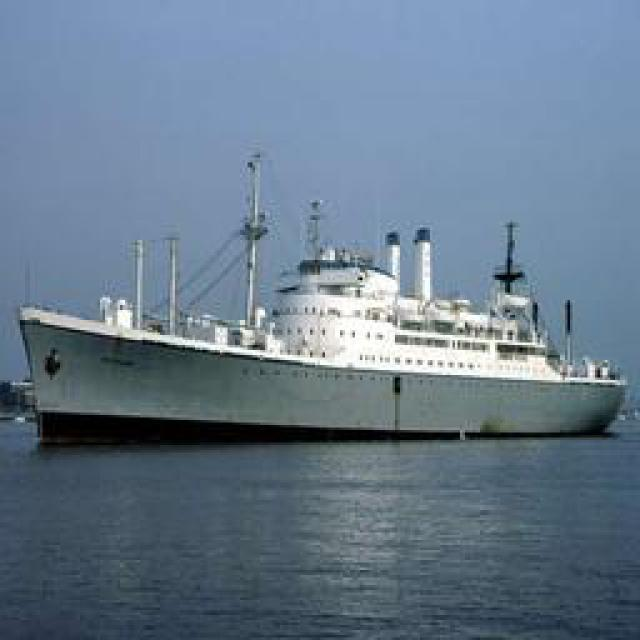Ship: (19, 166, 629, 436)
